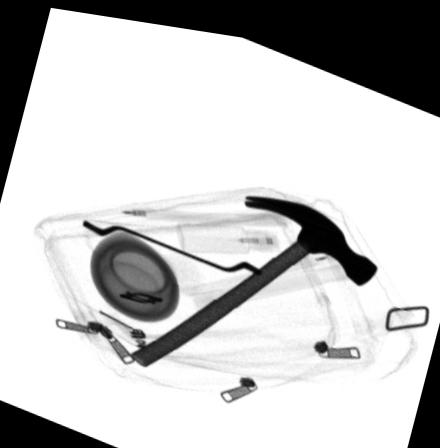Hammer: (127, 185, 377, 363)
Wrench: (79, 214, 263, 269)
